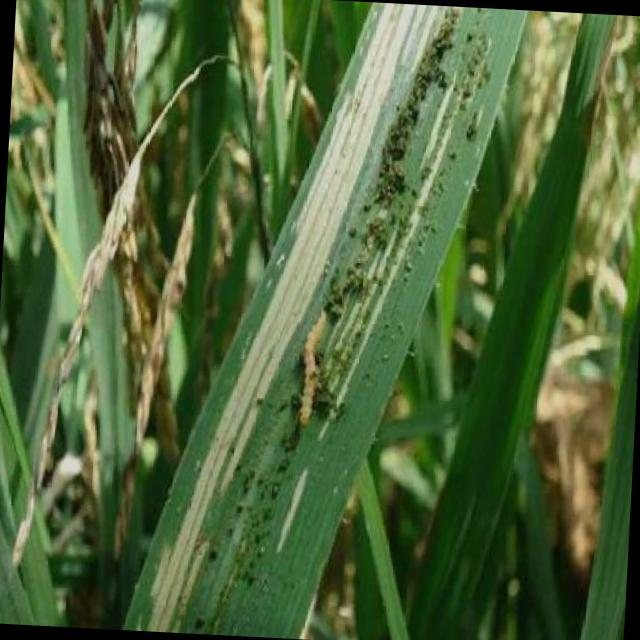leaf-folder: (284, 275, 338, 430)
